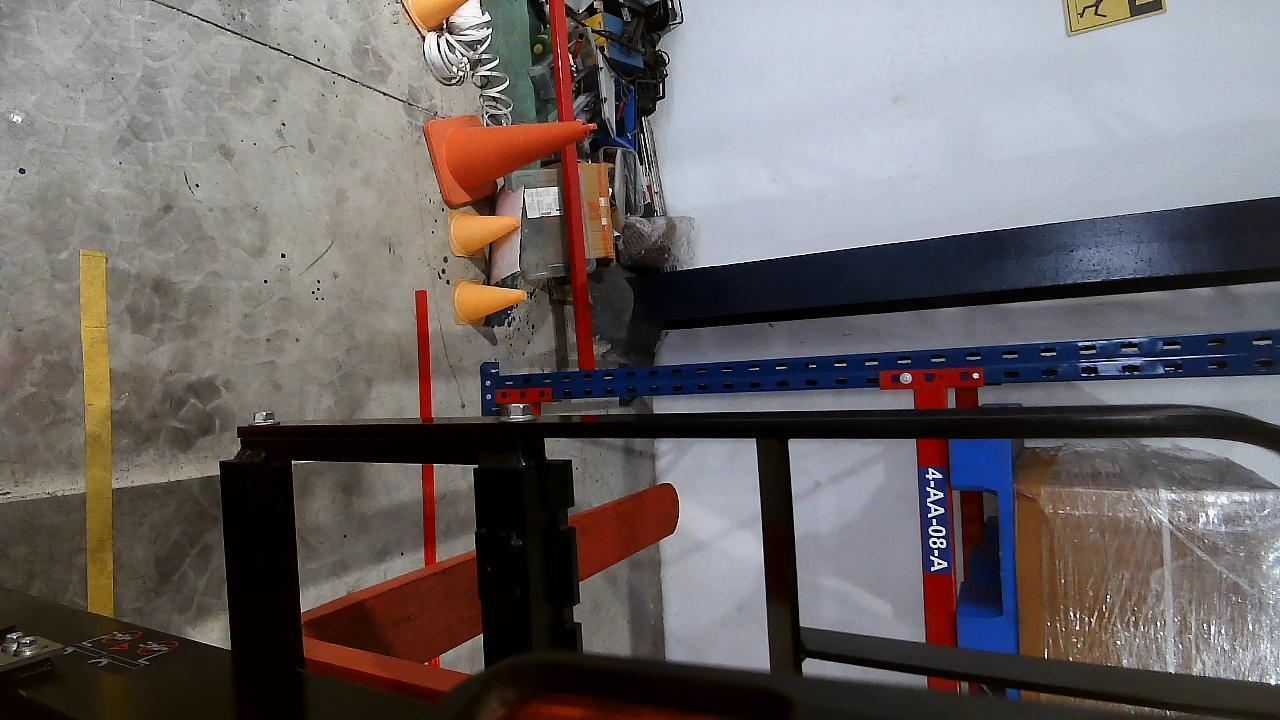red_line: (414, 292, 440, 564)
yellow_line: (79, 249, 112, 617)
